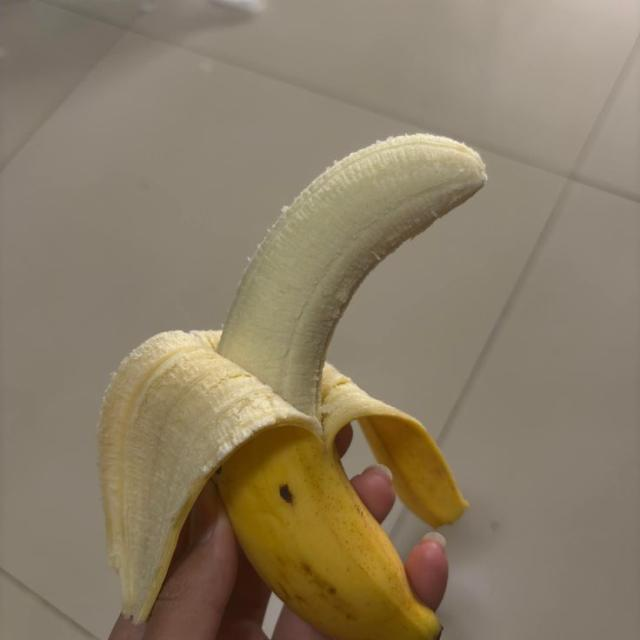banana: (100, 134, 486, 639)
